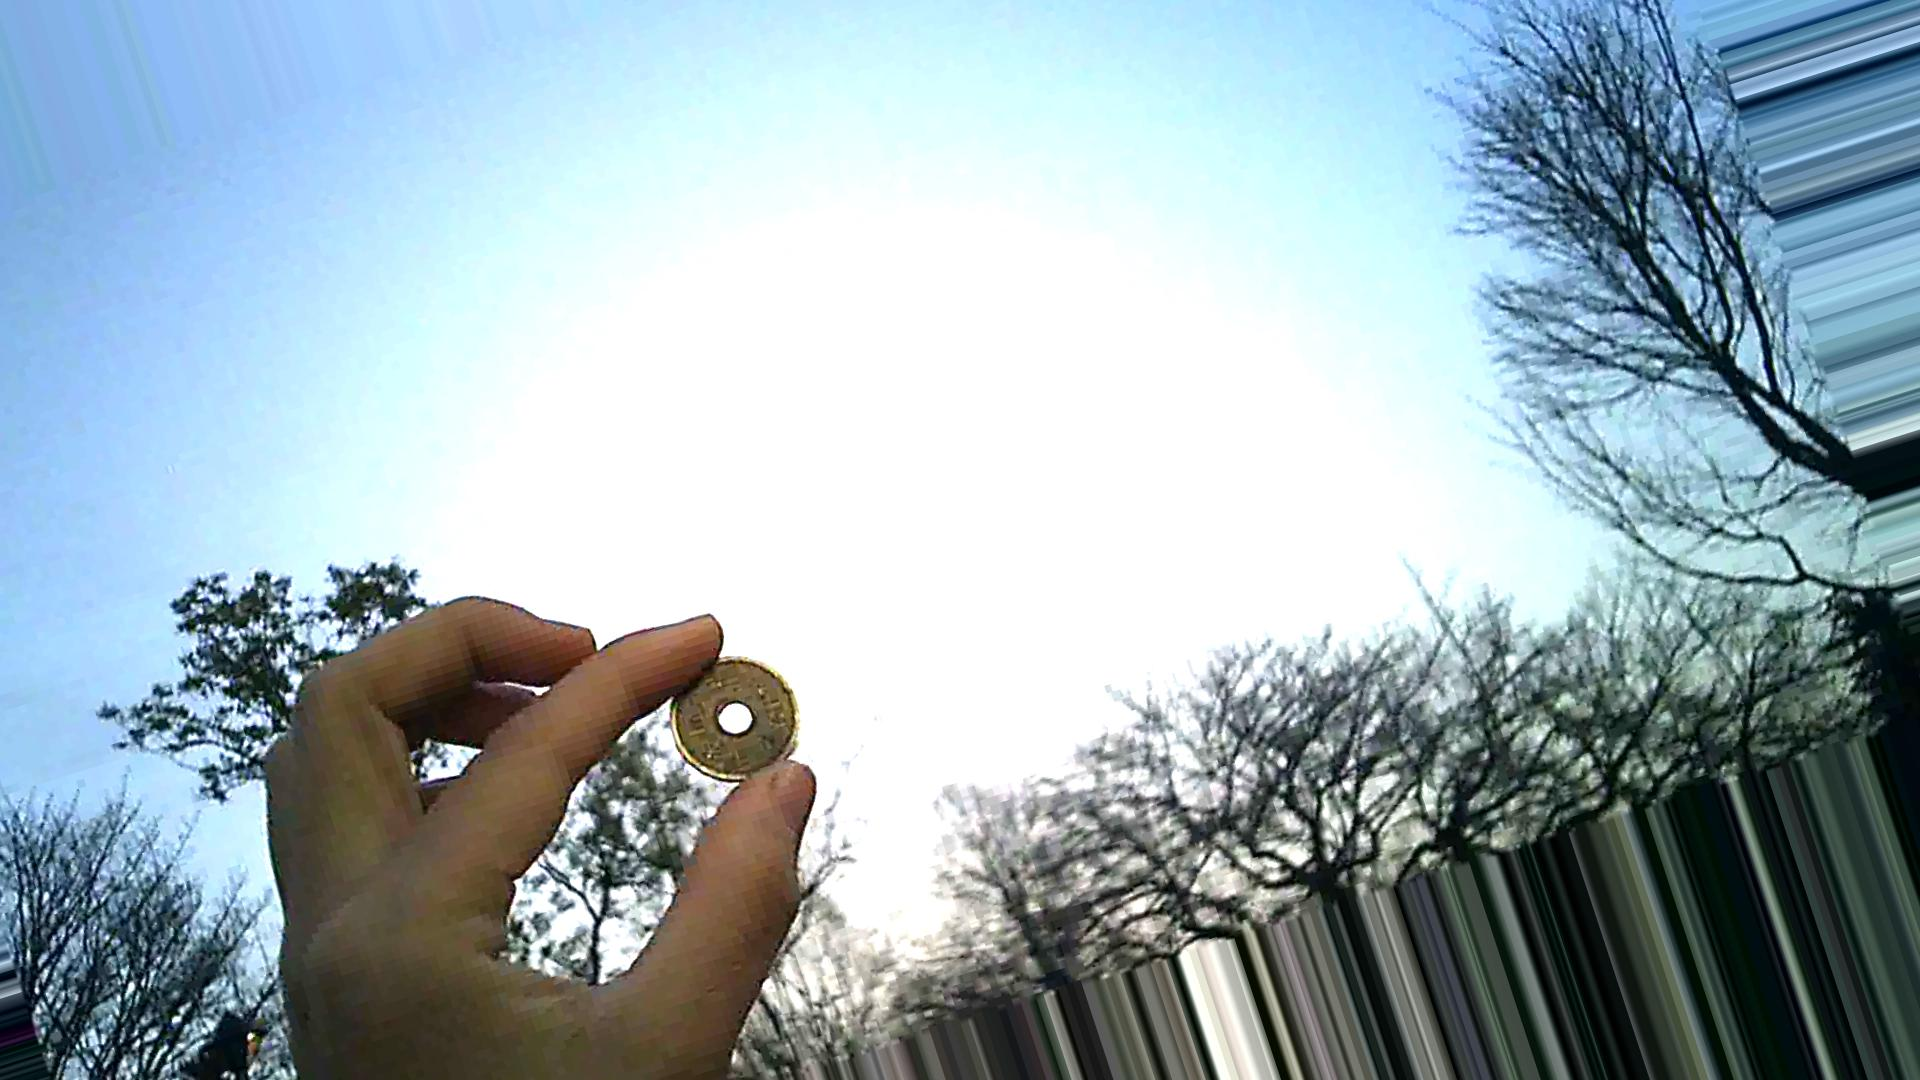5 Yen: (670, 659, 810, 796)
